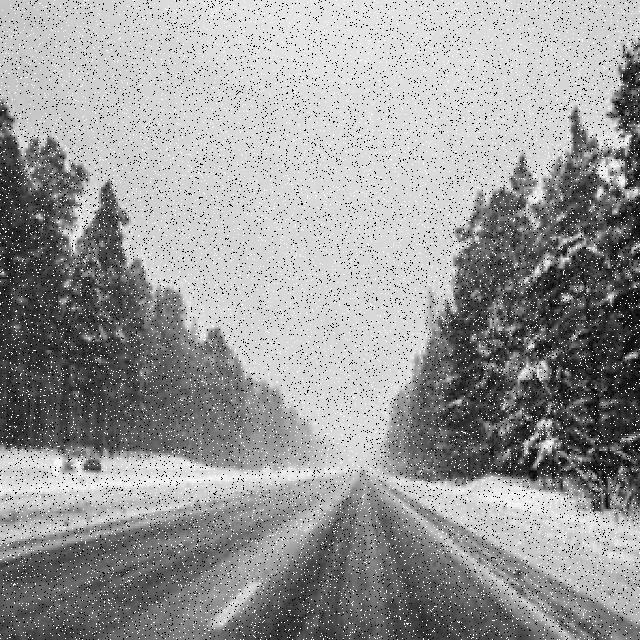ice-road: (0, 479, 555, 640)
